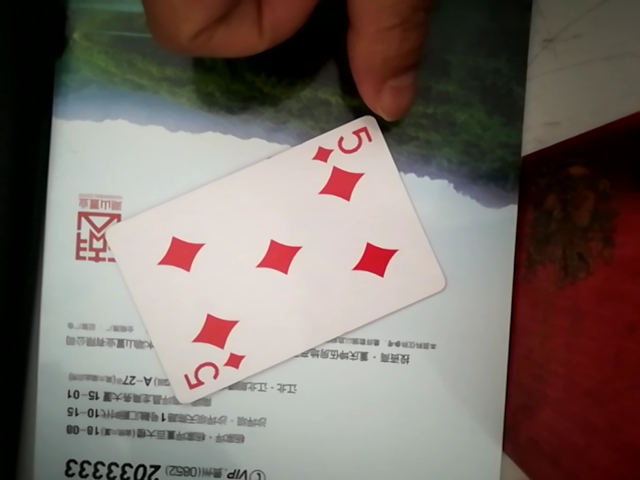fk 5: (76, 111, 446, 398)
